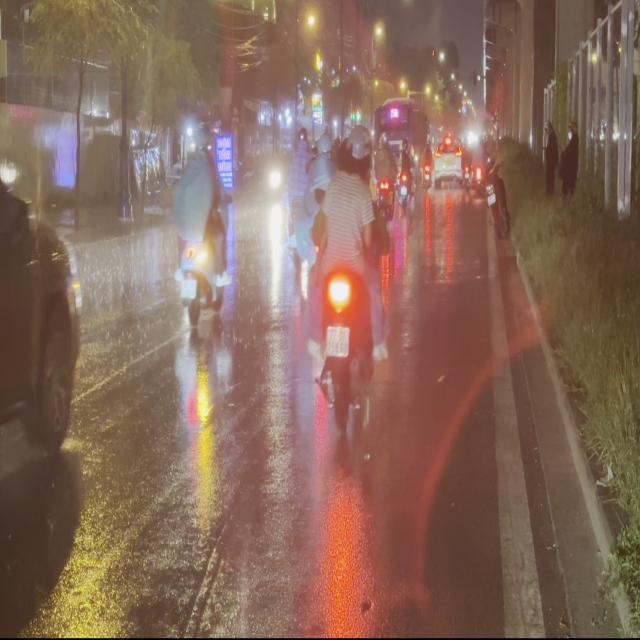helmet: (346, 123, 374, 177)
licenseplate: (312, 122, 397, 439)
nohelmet: (324, 324, 350, 356)
